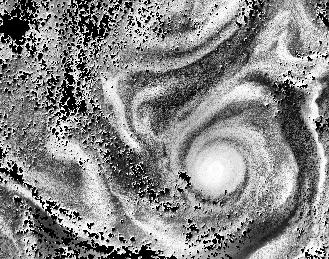CE: (155, 88, 290, 227)
